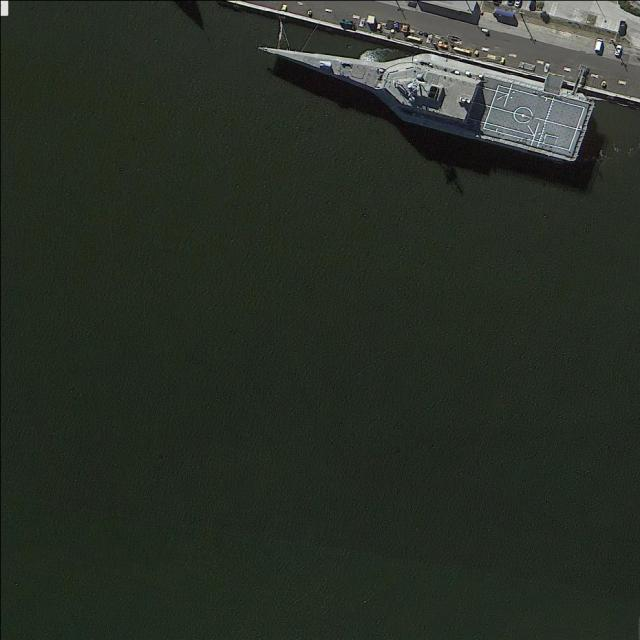Frigate: (248, 8, 593, 169)
